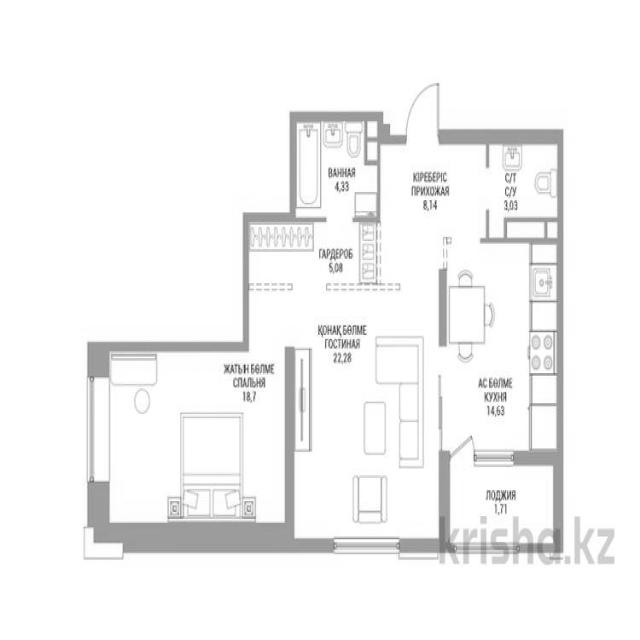balcony: (444, 456, 558, 549)
bathroom: (294, 119, 380, 217), (486, 136, 562, 234)
hallway: (380, 141, 485, 286)
kitchen: (446, 240, 559, 456)
living_room: (291, 292, 439, 542), (104, 350, 288, 532)
other: (245, 219, 377, 285)
